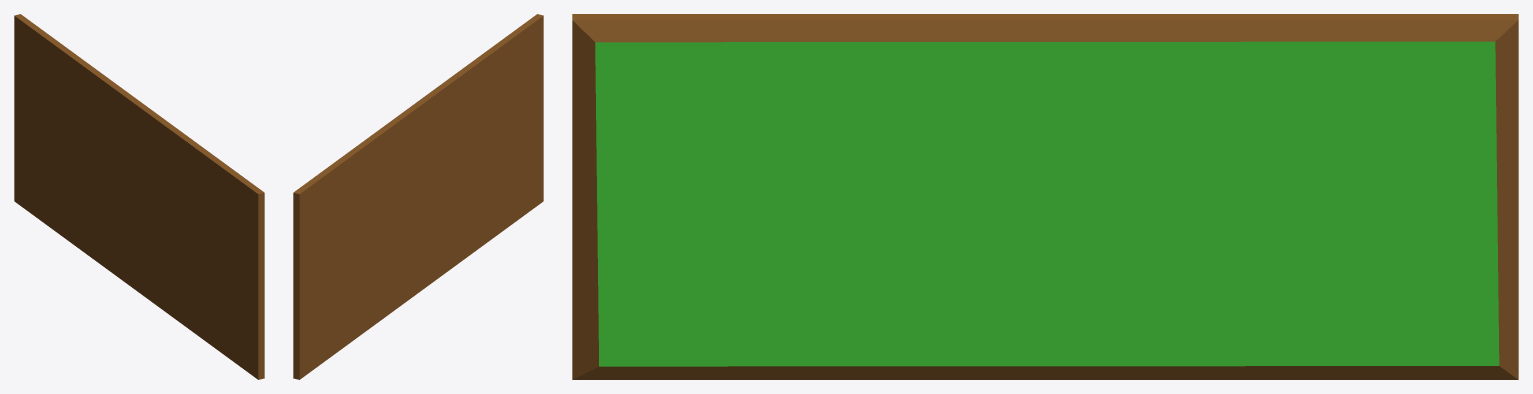
Rendered from School Board.fbx.
3 renders of one model, left to right at view 1: azimuth 30°, elevation 25°; view 2: azimuth 150°, elevation 25°; view 3: azimuth 270°, elevation 25°, orthographic. The views are drawn at different scales.
Parts seen in each view (by area): view 1: Cube; view 2: Cube; view 3: Cube.
Boxes of the visible parts, box(x1,y1,x2,y2) form: Cube: box(14, 14, 264, 379); Cube: box(293, 14, 543, 379); Cube: box(572, 14, 1518, 379).
Bounding box in the file's own units: 17.81 × 289 × 688.
